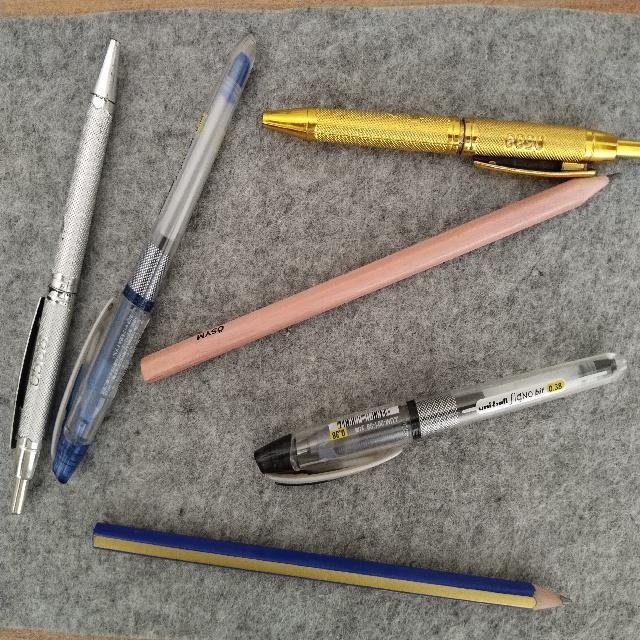pen: (53, 35, 255, 482), (254, 353, 626, 483)
pencil: (141, 176, 608, 382), (93, 522, 567, 609)
signature pen: (10, 40, 118, 513), (262, 107, 639, 177)
